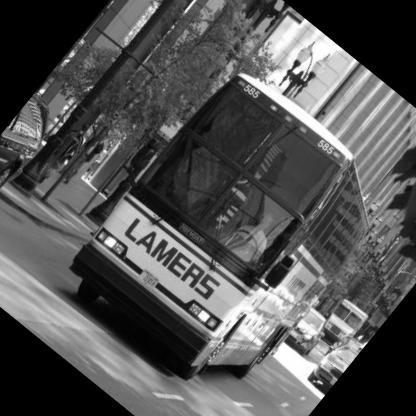bus: (49, 52, 410, 416)
car: (304, 332, 362, 395), (287, 306, 337, 358)
